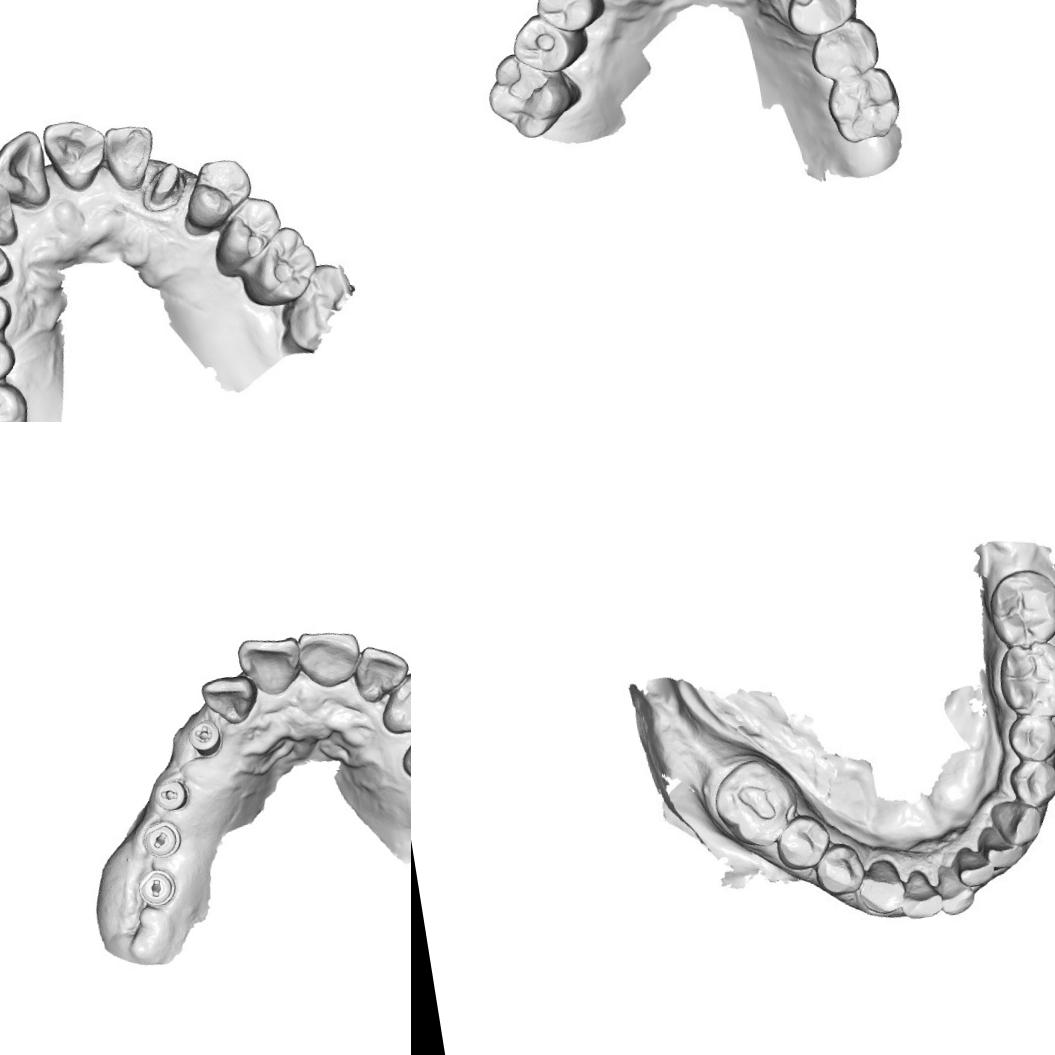canine: (986, 792, 1053, 854), (852, 854, 912, 922), (374, 666, 411, 739), (0, 221, 17, 296)
crown: (139, 156, 191, 212)
implant_minus: (133, 864, 182, 914), (148, 773, 192, 817), (137, 818, 183, 860)
implant_plus: (184, 714, 224, 762)
incisor: (40, 113, 115, 196), (294, 625, 368, 698), (232, 630, 306, 701), (99, 119, 162, 195), (0, 126, 52, 214), (350, 638, 411, 706), (198, 668, 260, 730), (898, 868, 946, 924), (980, 826, 1026, 876), (938, 860, 976, 914), (0, 179, 21, 253), (960, 848, 994, 890)
molar: (481, 44, 581, 146), (706, 752, 802, 854), (234, 221, 324, 312), (822, 64, 906, 147), (981, 566, 1055, 649), (992, 637, 1055, 720), (0, 377, 36, 422)
premolar: (206, 192, 288, 273), (177, 153, 259, 234), (804, 13, 886, 85), (506, 8, 581, 80), (781, 0, 863, 40), (529, 0, 608, 40), (774, 818, 829, 870), (1006, 706, 1055, 762), (816, 845, 862, 893), (1011, 757, 1055, 807), (0, 331, 22, 388), (0, 280, 15, 341)
